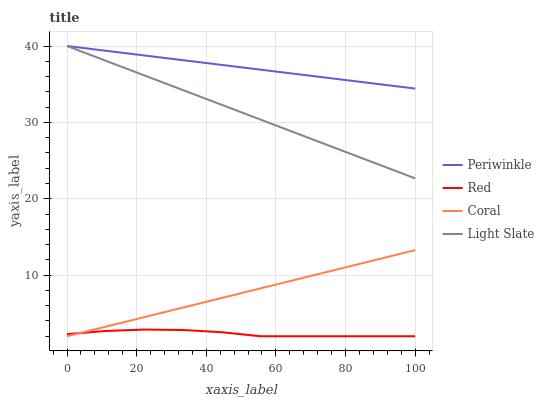axis: (53, 347, 441, 359), (42, 26, 56, 346)
legend: (439, 143, 543, 251)
line: (67, 45, 415, 180), (67, 249, 415, 338), (68, 44, 415, 90), (68, 329, 415, 338)
